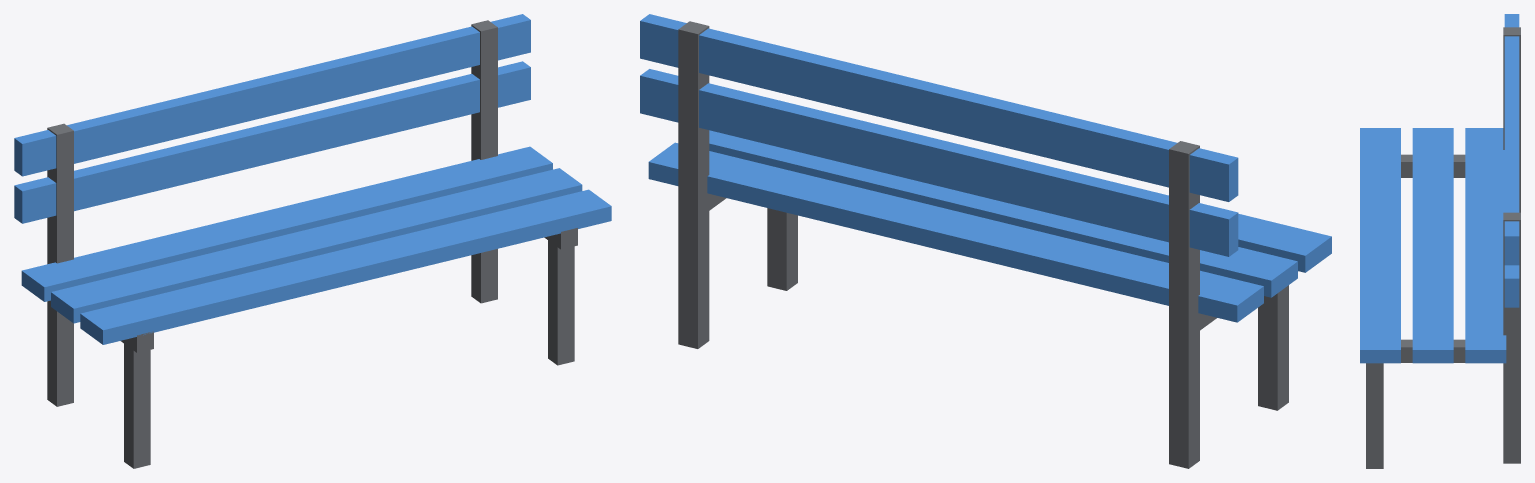
Rendered from Bench_01.fbx.
The picture shows the model from 3 angles, left to right: view 1: azimuth 30°, elevation 25°; view 2: azimuth 150°, elevation 25°; view 3: azimuth 270°, elevation 25°; orthographic projection. The views are drawn at different scales.
Visible parts, largest first — view 1: Bench_01_Accent, Bench_01_Trim; view 2: Bench_01_Accent, Bench_01_Trim; view 3: Bench_01_Accent, Bench_01_Trim.
Boxes of the visible parts, x1,y1,x2,y2 form: Bench_01_Accent: (14,14,611,344); Bench_01_Trim: (47,20,577,468); Bench_01_Accent: (640,14,1331,322); Bench_01_Trim: (678,21,1288,468); Bench_01_Accent: (1360,14,1519,363); Bench_01_Trim: (1366,27,1520,468).
Bounding box in the file's own units: 1.8 × 0.94 × 0.55.
